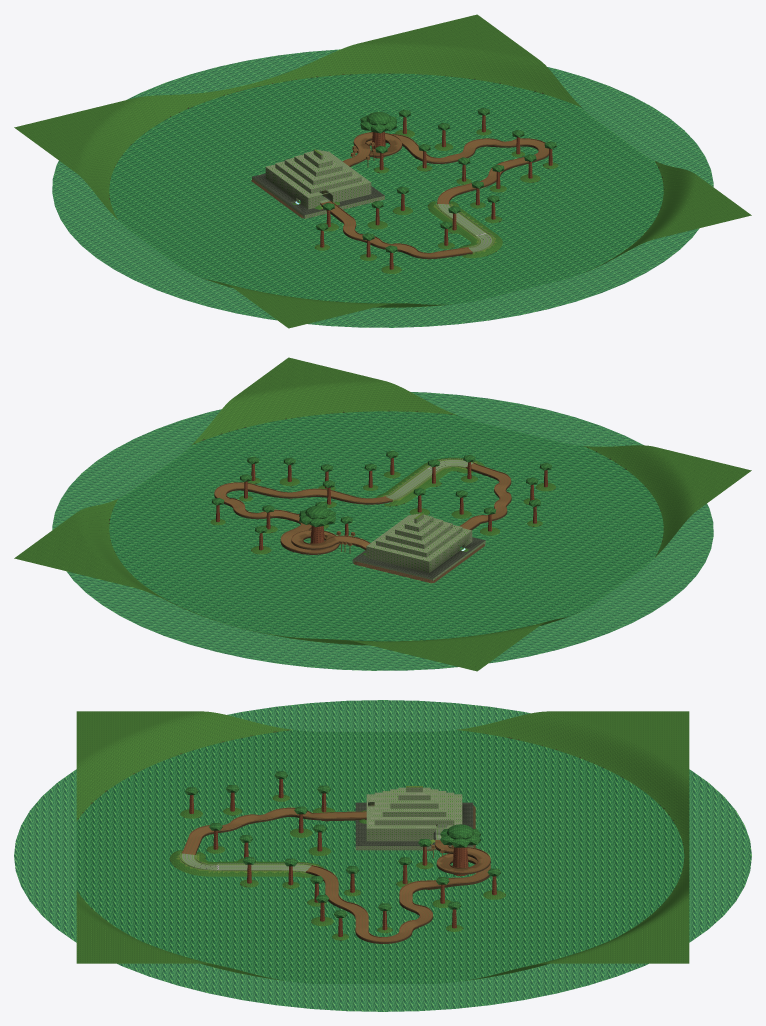
The picture shows the model from 3 angles, top to bottom: view 1: azimuth 30°, elevation 25°; view 2: azimuth 150°, elevation 25°; view 3: azimuth 270°, elevation 25°; orthographic projection. The views are drawn at different scales.
Visible parts, largest first — view 1: Swamp Water, Swamp, Pyramid, Swamp Canopy, Swamp Trees, Road 07 spiral, Road 04 boardwalk, Road 03 boardwalk, Road 15 boardwalk, Great Tree Crown, Road 02 boardwalk; view 2: Swamp Water, Swamp, Pyramid, Swamp Canopy, Swamp Trees, Road 07 spiral, Road 02 boardwalk, Road 03 boardwalk, Road 04 boardwalk, Great Tree Crown, Road 15 boardwalk, Road 01 dike; view 3: Swamp Water, Swamp, Pyramid, Swamp Canopy, Swamp Trees, Road 07 spiral, Road 04 boardwalk, Road 02 boardwalk, Road 03 boardwalk, Great Tree Crown, Road 14 boardwalk, Road 01 dike (+2 smaller).
Boxes of the visible parts, x1,y1,x2,y2 form: Swamp Water: (52, 49, 713, 327); Swamp: (14, 14, 751, 328); Pyramid: (252, 149, 384, 218); Swamp Canopy: (316, 108, 556, 252); Swamp Trees: (320, 115, 552, 269); Road 07 spiral: (352, 132, 402, 163); Road 04 boardwalk: (417, 138, 505, 163); Road 03 boardwalk: (497, 138, 548, 170); Road 15 boardwalk: (394, 243, 472, 259); Great Tree Crown: (360, 111, 397, 133); Road 02 boardwalk: (437, 164, 506, 204); Swamp Water: (52, 392, 713, 670); Swamp: (14, 357, 751, 671); Pyramid: (352, 513, 485, 580); Swamp Canopy: (212, 450, 551, 533); Swamp Trees: (216, 458, 547, 550); Road 07 spiral: (291, 529, 360, 554); Road 02 boardwalk: (284, 488, 392, 504); Road 03 boardwalk: (214, 482, 285, 506); Road 04 boardwalk: (232, 502, 311, 529); Great Tree Crown: (299, 505, 335, 527); Road 15 boardwalk: (465, 462, 511, 495); Road 01 dike: (386, 467, 438, 500); Swamp Water: (14, 700, 751, 1011); Swamp: (76, 711, 689, 981); Pyramid: (355, 786, 473, 850); Swamp Canopy: (185, 771, 500, 917); Swamp Trees: (189, 779, 496, 936); Road 07 spiral: (435, 844, 490, 874); Road 04 boardwalk: (399, 880, 433, 929); Road 02 boardwalk: (306, 865, 365, 915); Road 03 boardwalk: (353, 910, 414, 943); Great Tree Crown: (440, 824, 480, 847); Road 14 boardwalk: (231, 807, 321, 826); Road 01 dike: (218, 863, 311, 872).
Size of the model in its own units: 940 by 69 by 940.
19 materials, 19 textured.
